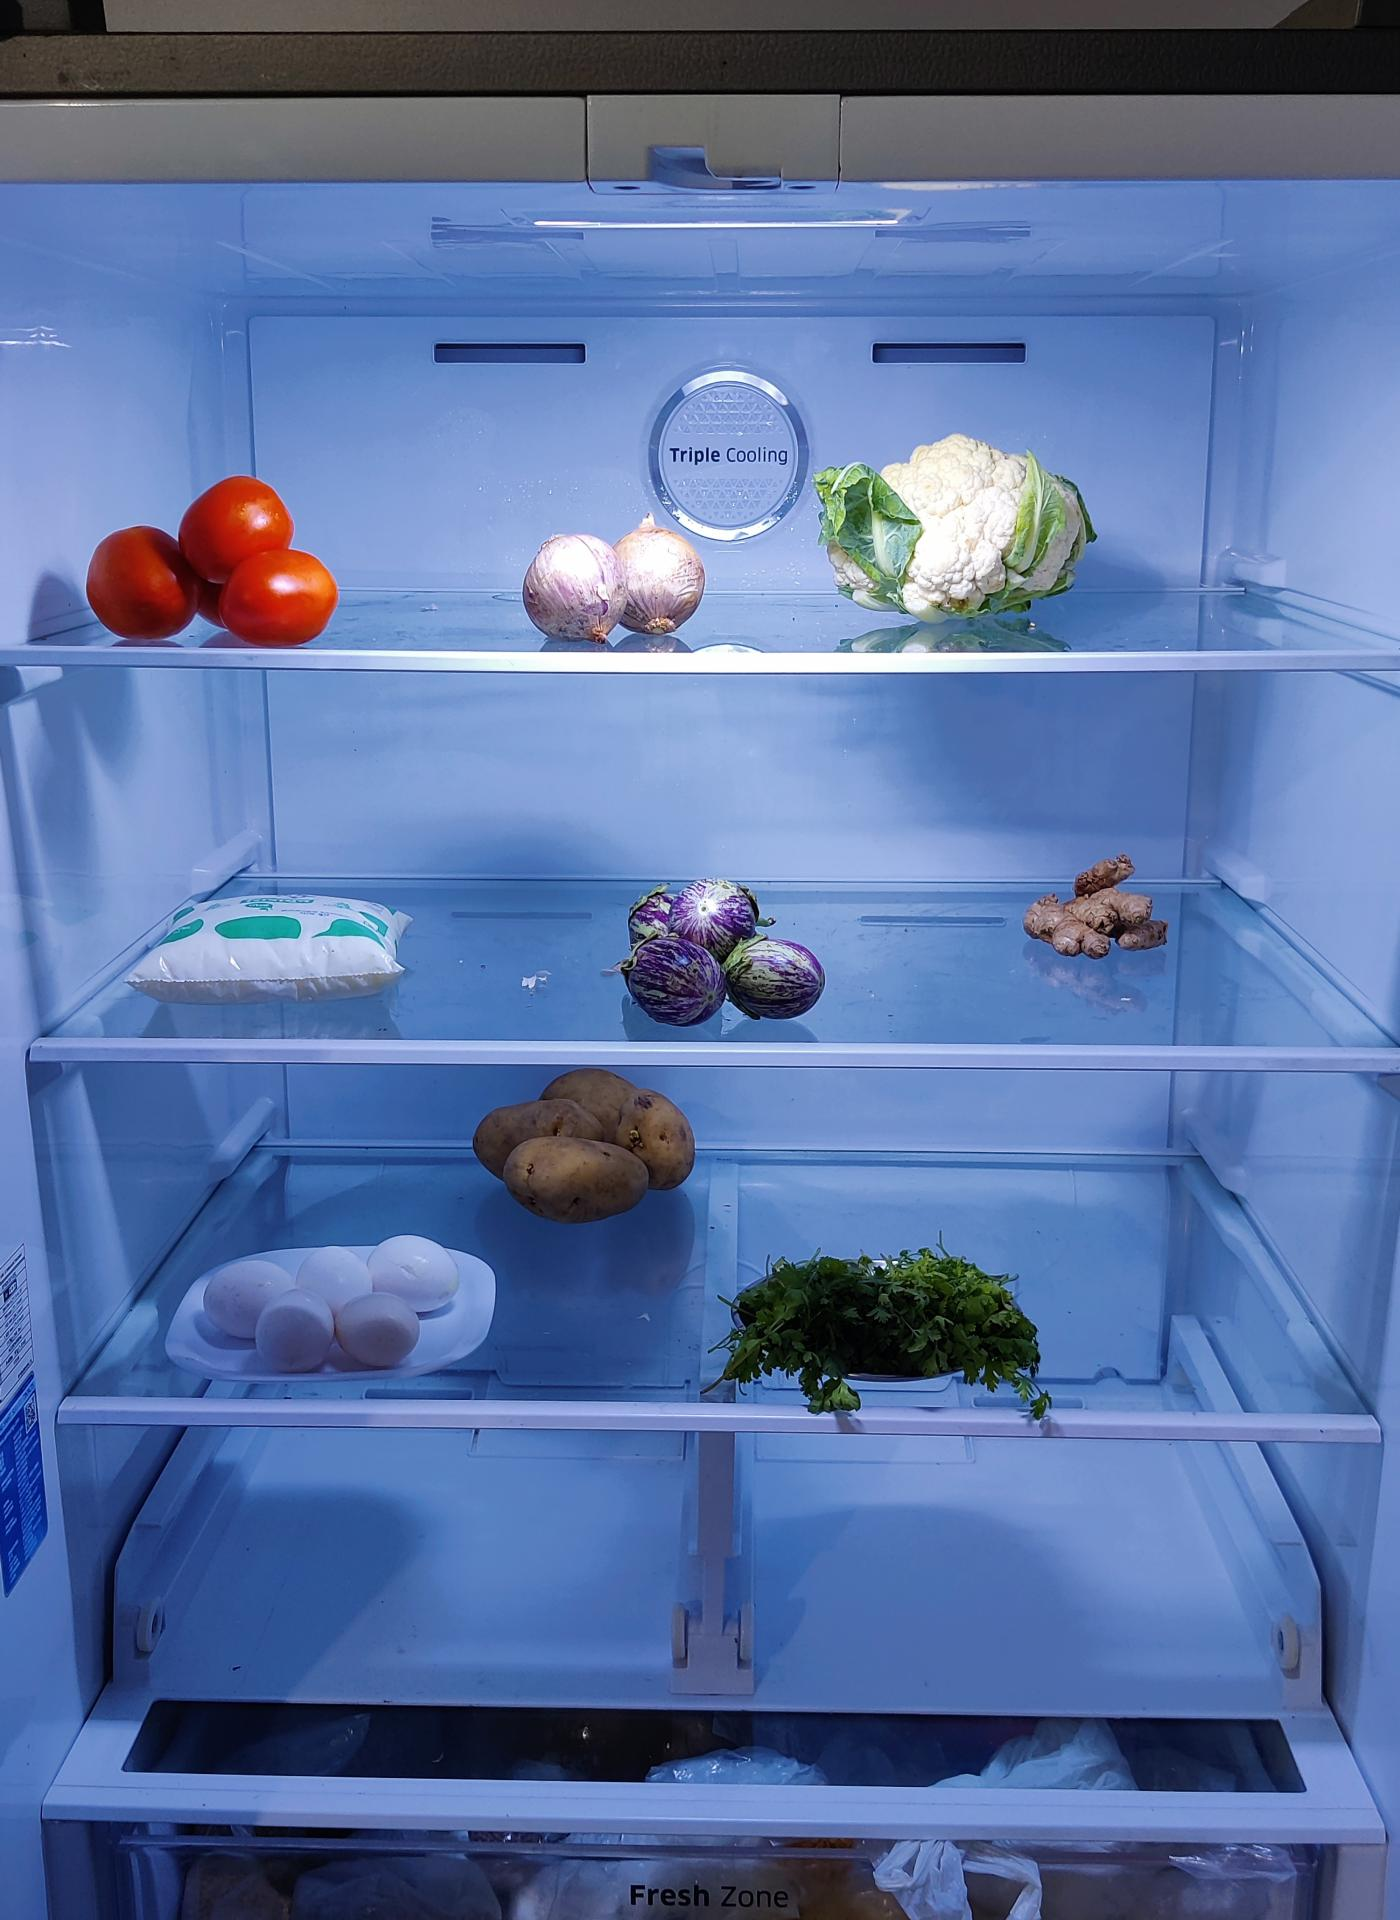brinjal: (613, 875, 822, 1029)
cauliflower: (830, 438, 1088, 628)
coriander: (723, 1240, 1044, 1391)
egg: (188, 1230, 486, 1376)
ginger: (1023, 845, 1176, 959)
milk: (134, 896, 414, 1017)
onion: (523, 525, 713, 647)
potato: (473, 1057, 699, 1215)
tomato: (82, 480, 341, 654)
